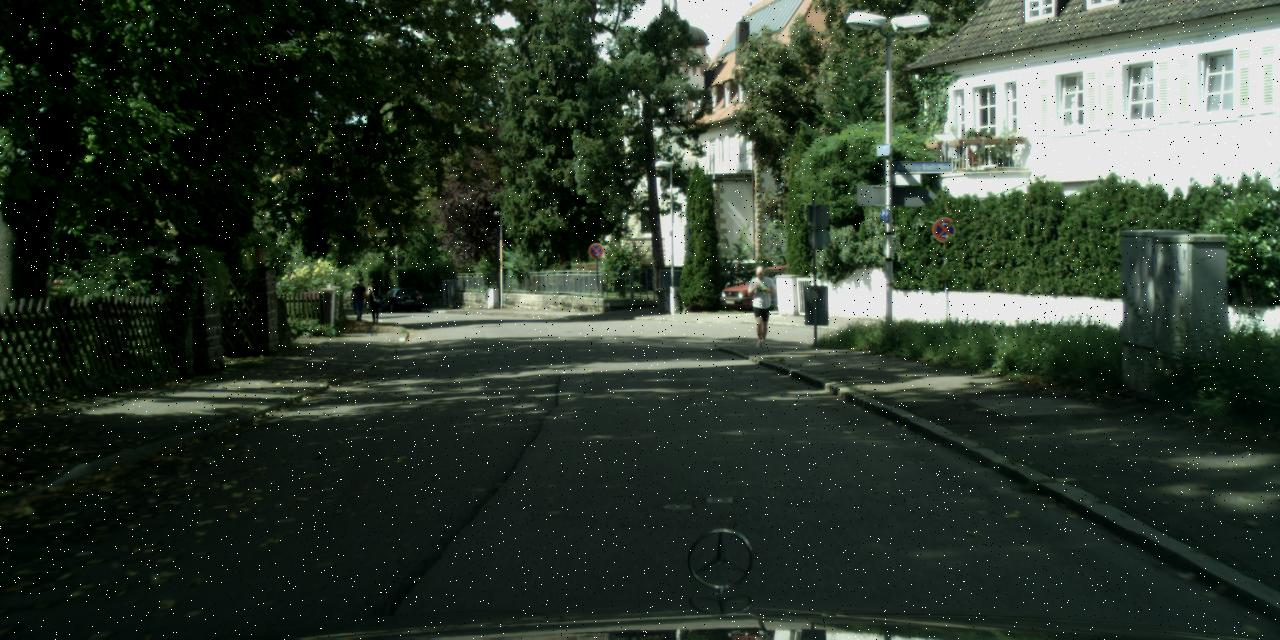ped: (743, 265, 776, 346), (365, 278, 383, 322), (350, 276, 367, 320)
